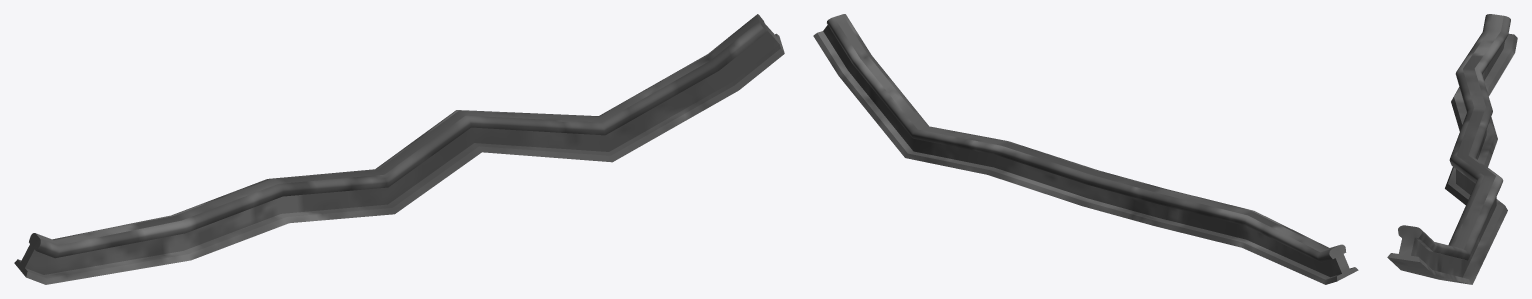
File: Rail Piece 2.fbx
3 views of the same model, side by side, from view 1: azimuth 30°, elevation 25°; view 2: azimuth 150°, elevation 25°; view 3: azimuth 270°, elevation 25° (orthographic). The views are drawn at different scales.
Visible parts, largest first — view 1: Rail_Piece_2; view 2: Rail_Piece_2; view 3: Rail_Piece_2.
Part boxes in pixels (<box>): Rail_Piece_2: <box>14,14,784,284</box>; Rail_Piece_2: <box>813,14,1358,284</box>; Rail_Piece_2: <box>1387,14,1517,284</box>.
Size of the model in its own units: 352 by 61.48 by 62.54.
Materials: 1 (1 with a texture image).
